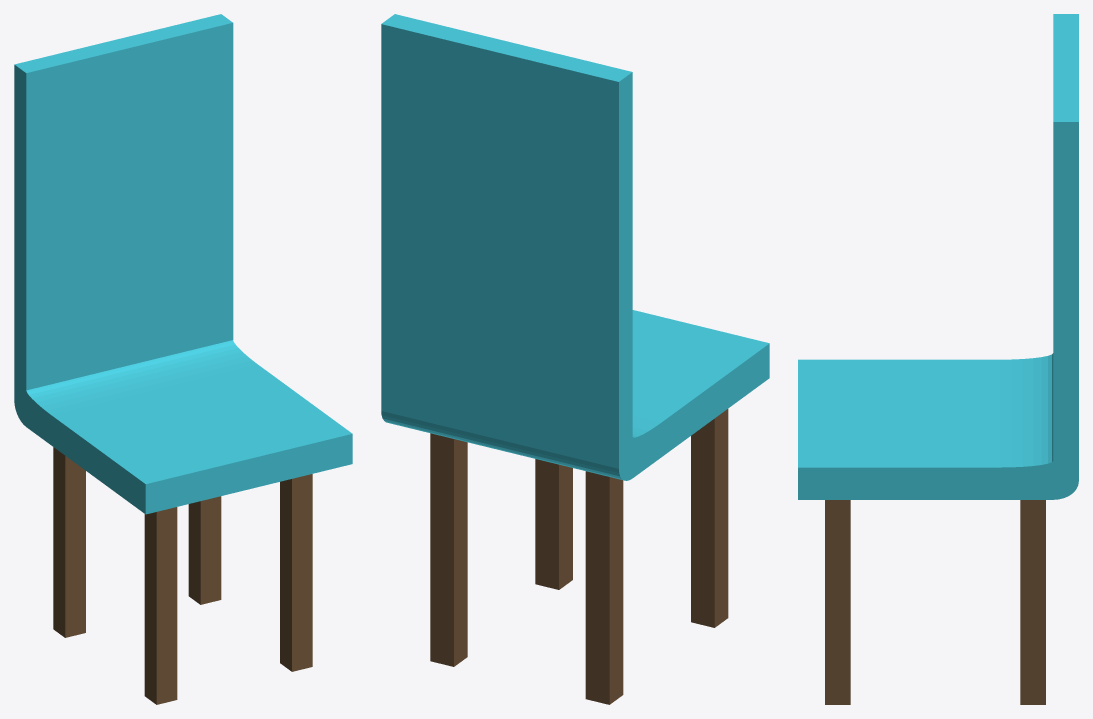
The model's file is chair.glb.
The picture shows the model from 3 angles, left to right: view 1: azimuth 30°, elevation 25°; view 2: azimuth 150°, elevation 25°; view 3: azimuth 270°, elevation 25°; orthographic projection. The views are drawn at different scales.
Parts seen in each view (by area): view 1: Cube.027; view 2: Cube.027; view 3: Cube.027.
Boxes of the visible parts, x1,y1,x2,y2 form: Cube.027: [14, 14, 352, 704]; Cube.027: [381, 14, 769, 704]; Cube.027: [798, 14, 1078, 704].
Bounding box in the file's own units: 0.5 × 1.29 × 0.55.
